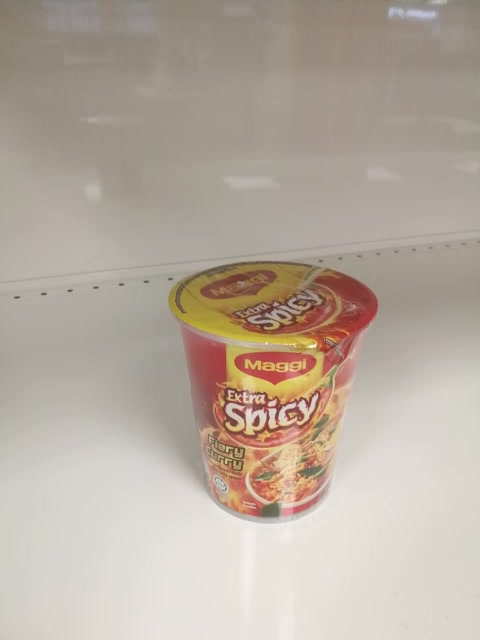maggi: (168, 258, 378, 526)
